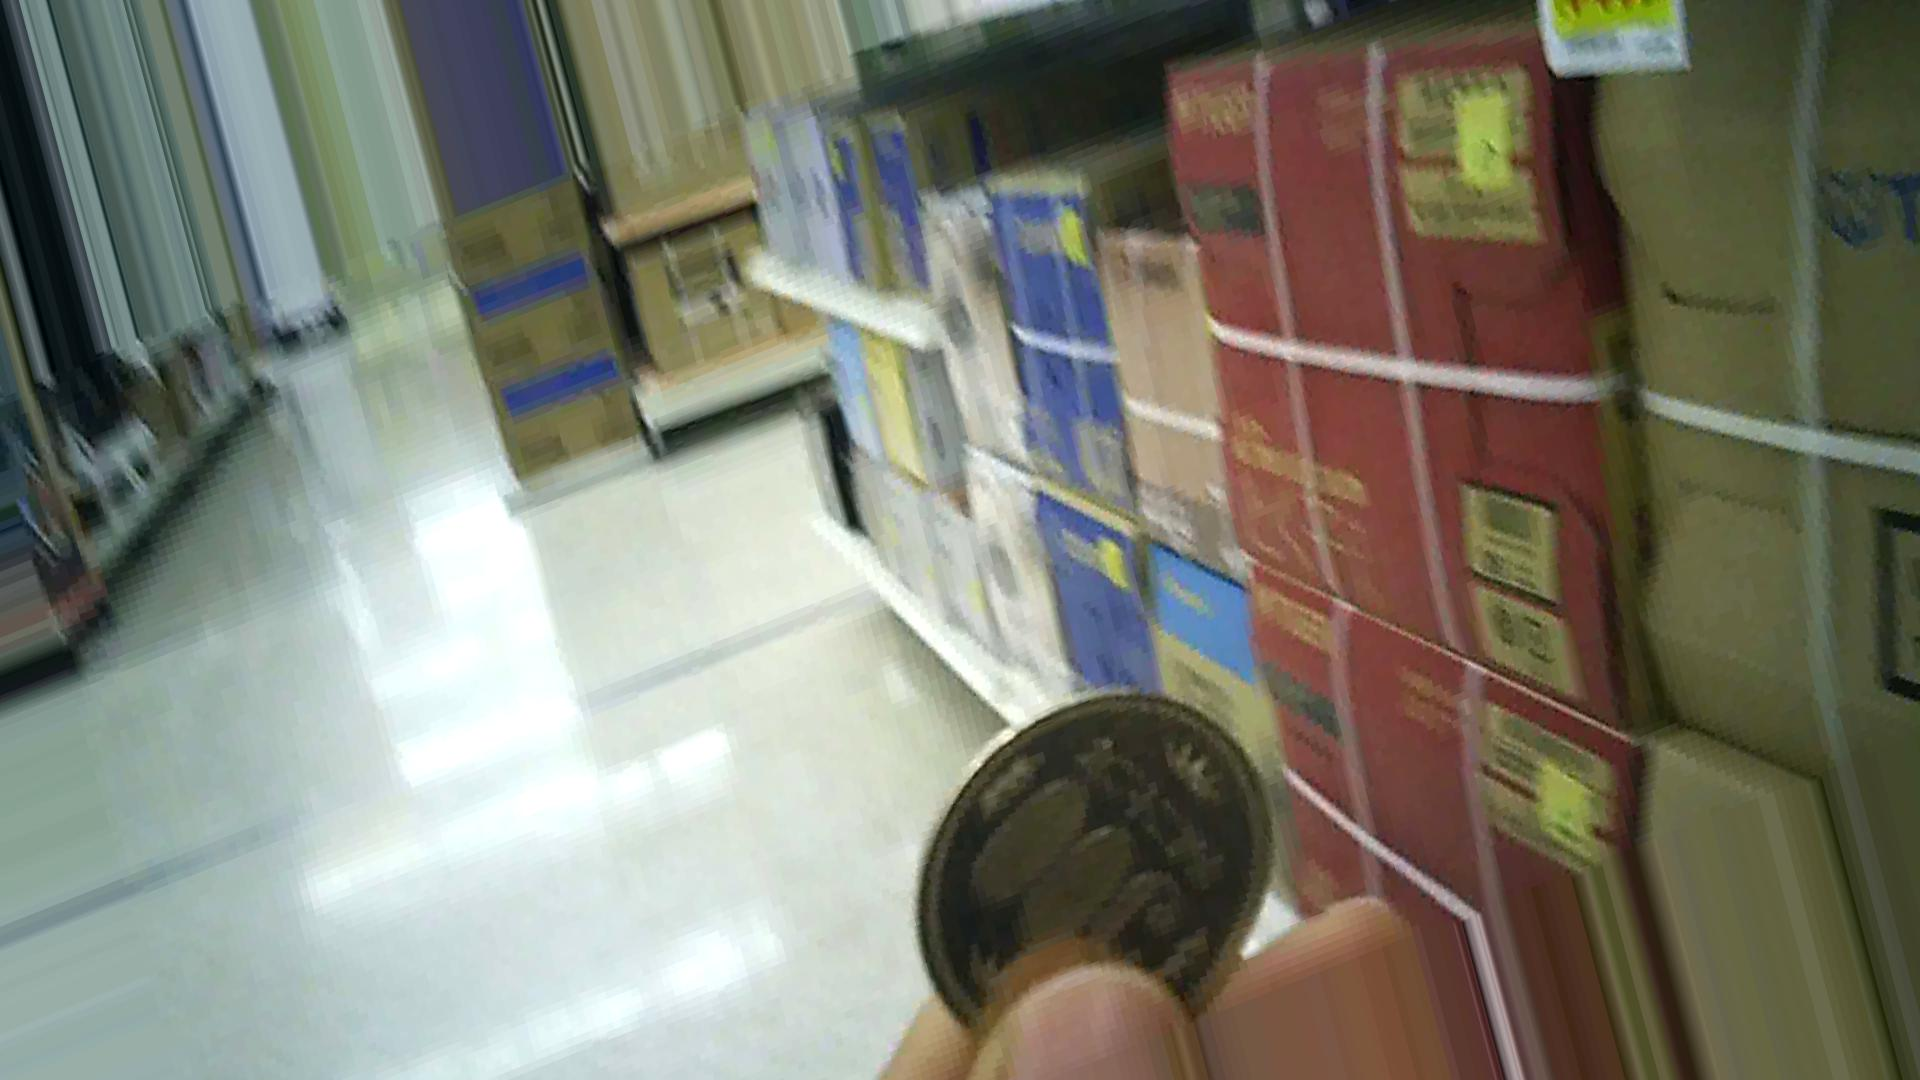500 Yen: (915, 702, 1287, 1060)
